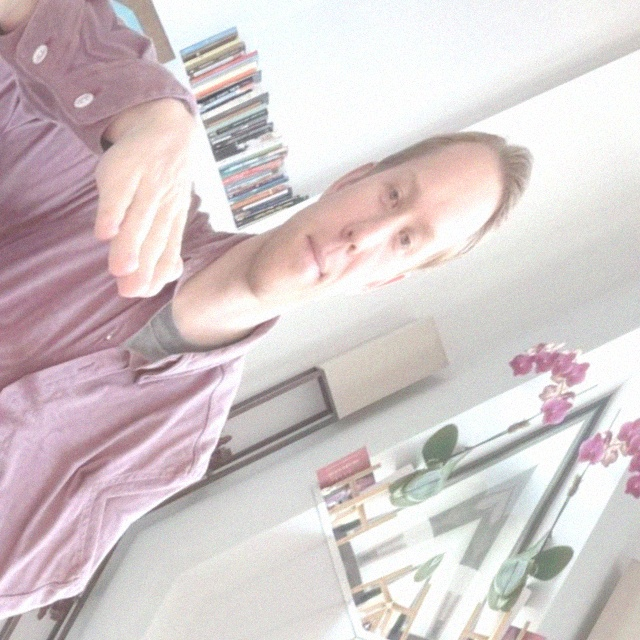Paper: (0, 0, 94, 146)
